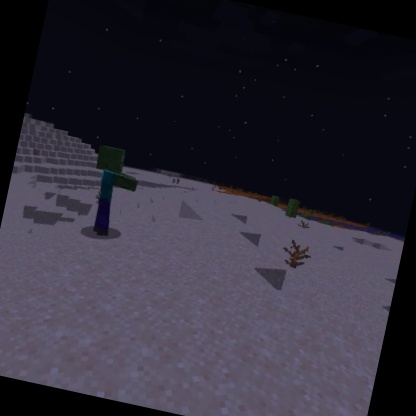zombie: (77, 140, 148, 247)
